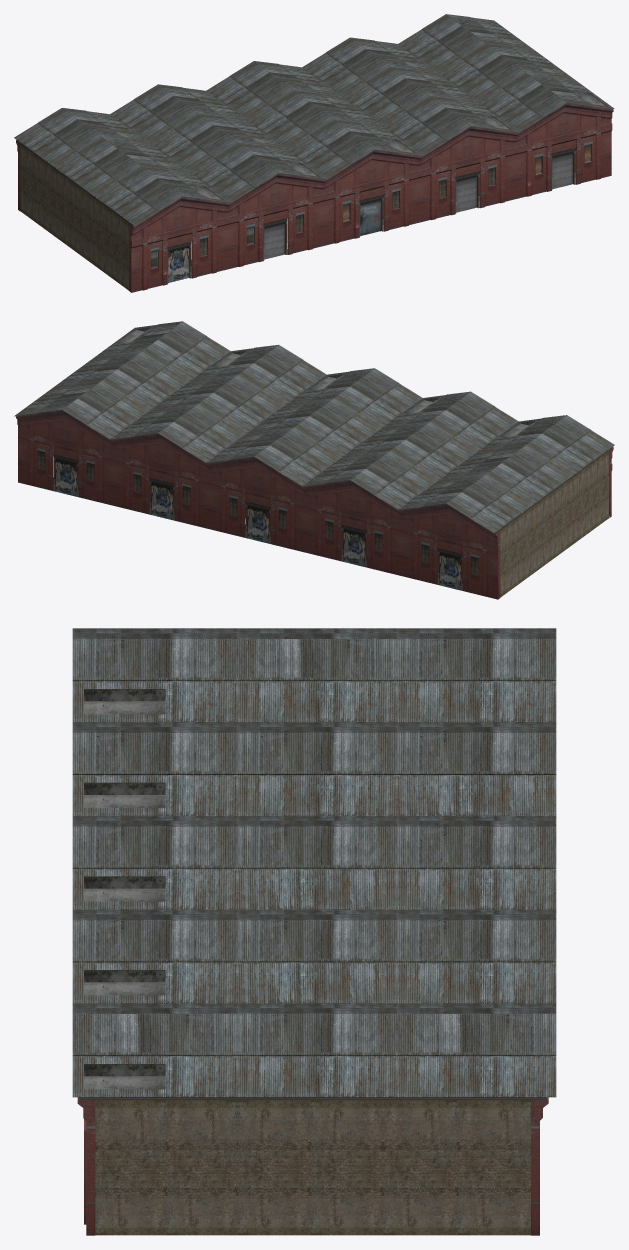
The model's file is warehouse.glb.
3 views of the same model, one above another, from view 1: azimuth 30°, elevation 25°; view 2: azimuth 150°, elevation 25°; view 3: azimuth 270°, elevation 25° (orthographic). The views are drawn at different scales.
Visible parts, largest first — view 1: mainer_2; view 2: mainer_2; view 3: mainer_2.
Part boxes in pixels (<box>): mainer_2: <box>14,14,614,292</box>; mainer_2: <box>14,321,614,599</box>; mainer_2: <box>72,628,556,1235</box>.
Size of the model in its own units: 247 by 42.94 by 108.
Materials: 1 (1 with a texture image).
